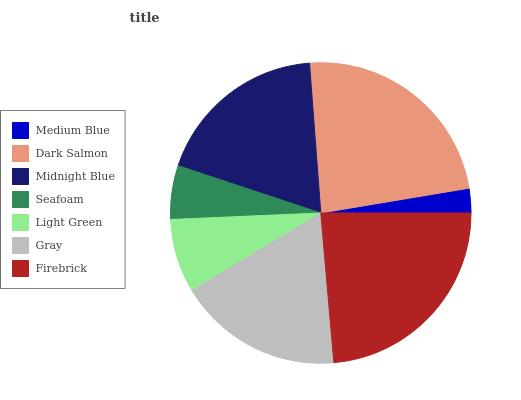legend: (0, 109, 124, 289)
sector: (308, 62, 470, 213), (319, 213, 473, 364), (177, 62, 323, 210), (193, 214, 333, 366), (171, 214, 319, 290), (169, 164, 320, 218), (320, 189, 486, 212)
